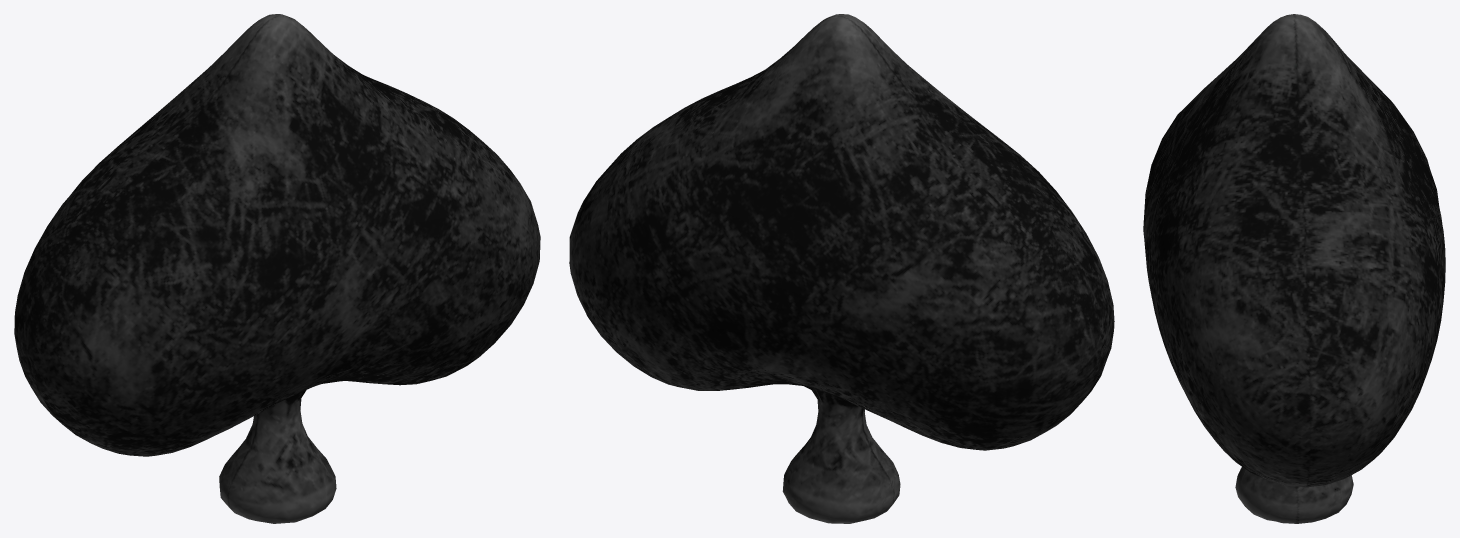
The model's file is spade.glb.
3 renders of one model, left to right at view 1: azimuth 30°, elevation 25°; view 2: azimuth 150°, elevation 25°; view 3: azimuth 270°, elevation 25°, orthographic.
Visible parts, largest first — view 1: Object_2.007; view 2: Object_2.007; view 3: Object_2.007.
Part boxes in pixels (x1=…): Object_2.007: x1=14, y1=14, x2=540, y2=523; Object_2.007: x1=569, y1=14, x2=1114, y2=523; Object_2.007: x1=1143, y1=14, x2=1445, y2=523.
Size of the model in its own units: 6.19 by 5.78 by 3.21.
1 material, 1 textured.
